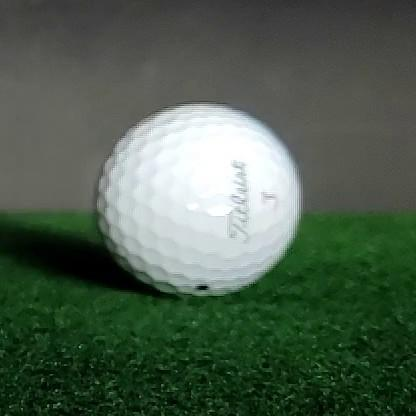golfball: (92, 102, 302, 297)
